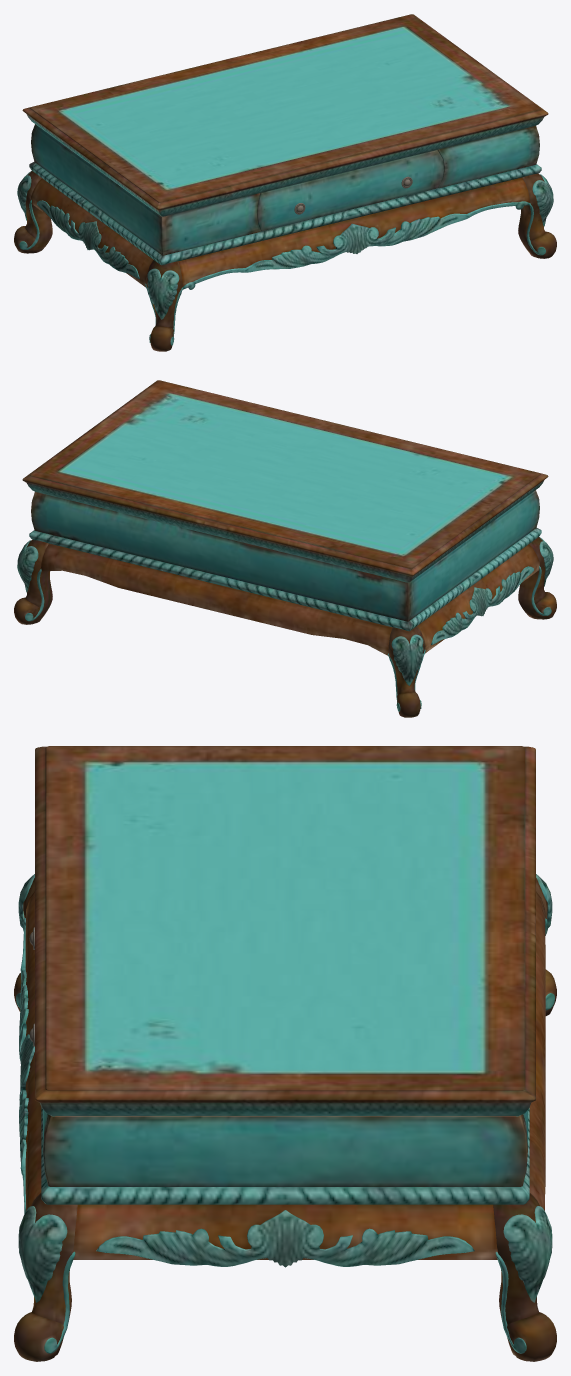
File: glb_CoffeeTable_01.glb
3 renders of one model, top to bottom at view 1: azimuth 30°, elevation 25°; view 2: azimuth 150°, elevation 25°; view 3: azimuth 270°, elevation 25°, orthographic. The views are drawn at different scales.
Parts seen in each view (by area): view 1: CoffeeTable_01; view 2: CoffeeTable_01; view 3: CoffeeTable_01.
Boxes of the visible parts, x1,y1,x2,y2 form: CoffeeTable_01: [14, 14, 556, 351]; CoffeeTable_01: [14, 380, 556, 717]; CoffeeTable_01: [14, 746, 556, 1361].
Bounding box in the file's own units: 1.54 × 0.5232 × 0.9728.
Materials: 1 (1 with a texture image).
